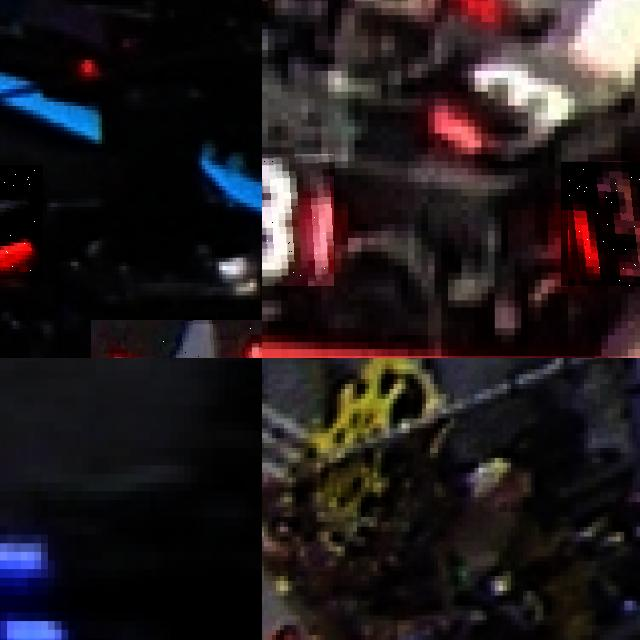R3: (561, 161, 640, 286), (262, 154, 334, 286)
R4: (91, 320, 262, 358), (0, 165, 43, 278)
